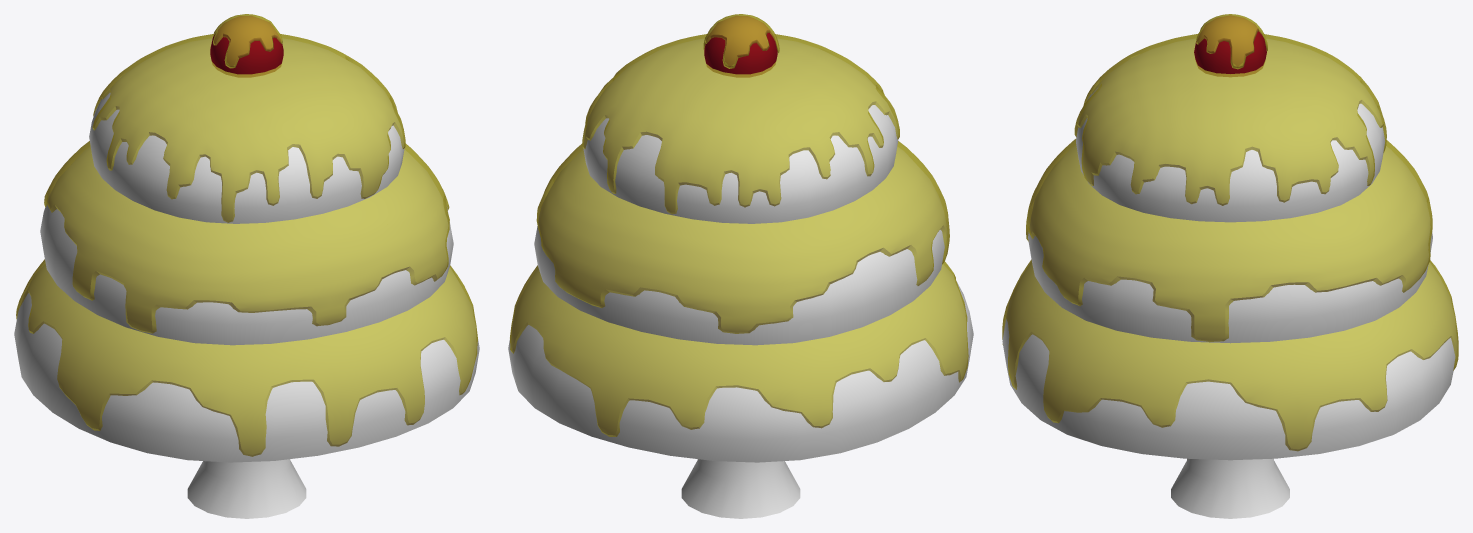
The model's file is Organic Honeywillow 1.FBX.
3 views of the same model, side by side, from view 1: azimuth 30°, elevation 25°; view 2: azimuth 150°, elevation 25°; view 3: azimuth 270°, elevation 25° (orthographic).
Parts seen in each view (by area): view 1: Leaves, Honey, Trunk, Cherry, CherryGlaze; view 2: Leaves, Honey, Trunk, Cherry, CherryGlaze; view 3: Leaves, Honey, Trunk, Cherry, CherryGlaze.
Part boxes in pixels (x1,y1,x2,y2): Leaves: (14, 38, 479, 462); Honey: (16, 34, 477, 456); Trunk: (187, 459, 306, 518); Cherry: (210, 16, 283, 77); CherryGlaze: (213, 14, 282, 68); Leaves: (508, 39, 973, 462); Honey: (510, 34, 968, 436); Trunk: (681, 459, 800, 518); Cherry: (704, 16, 777, 77); CherryGlaze: (703, 14, 779, 68); Leaves: (1002, 38, 1457, 460); Honey: (1002, 34, 1458, 451); Trunk: (1171, 458, 1289, 518); Cherry: (1194, 15, 1266, 76); CherryGlaze: (1196, 14, 1267, 69).
Size of the model in its own units: 275 by 316 by 275.
